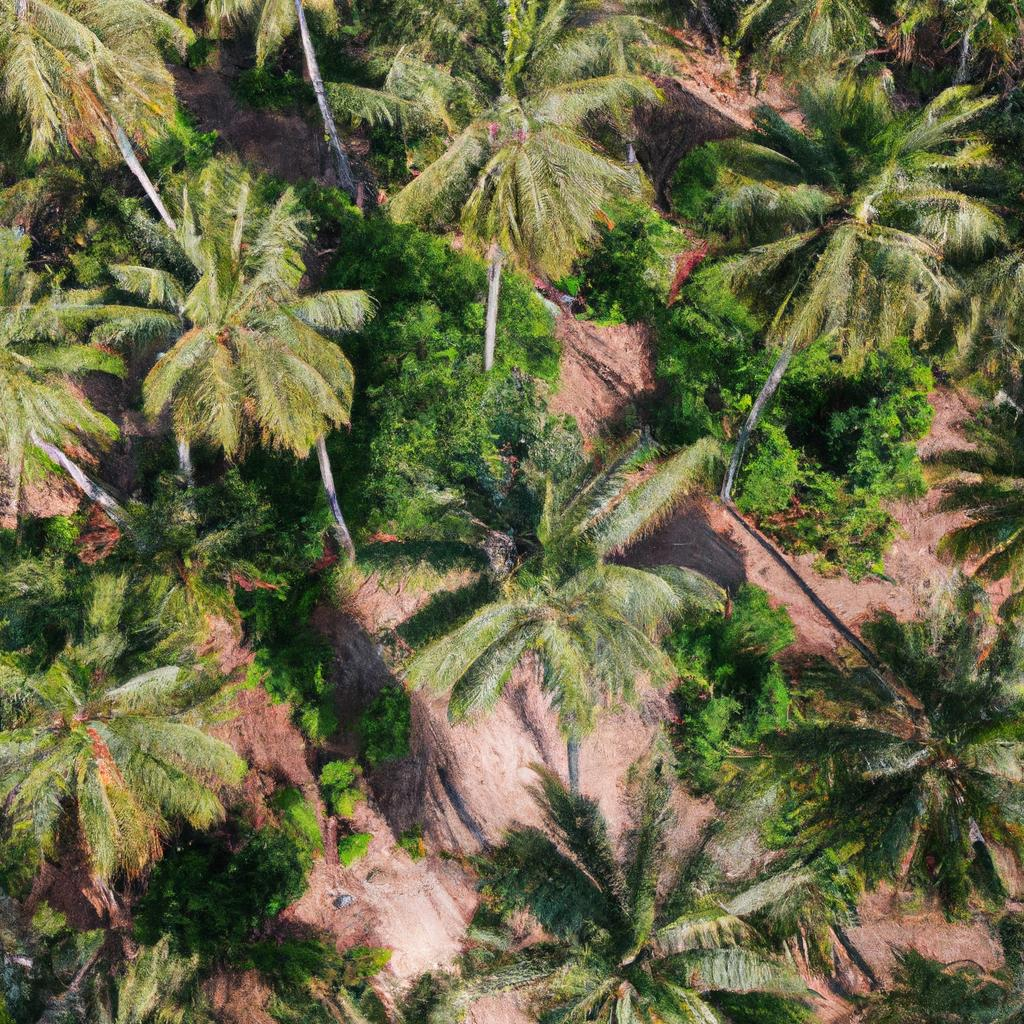coconut_tree: (355, 402, 717, 742), (339, 4, 666, 301), (704, 48, 995, 375), (92, 153, 387, 462), (0, 567, 265, 870)
